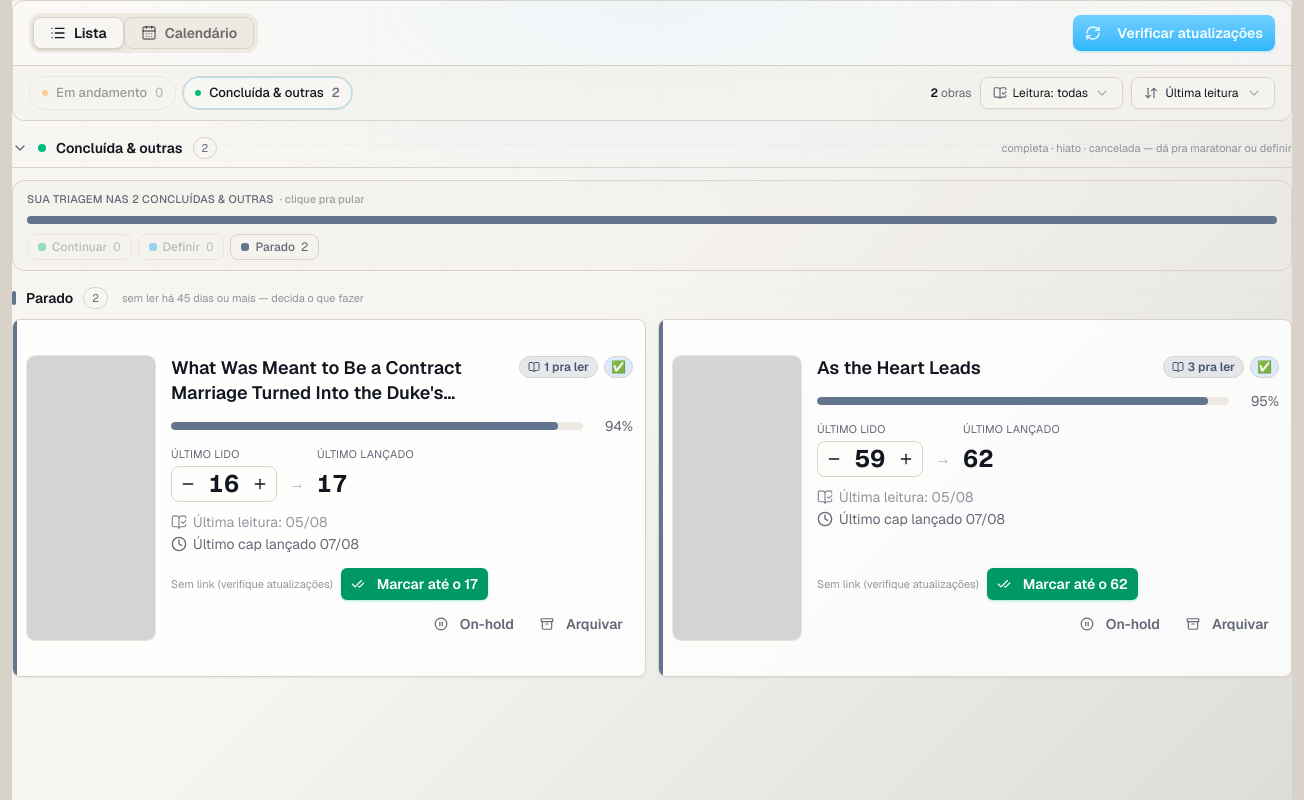
Test: /reading: obra com capítulo novo se identifica na faixa e no card › a faixa do topo traz o título INTEIRO da obra, não um trecho truncado
This screenshot has width=1304, height=800.
Click the button "Verificar atualizações".
click(1174, 33)  # box [1073, 15, 1275, 51]
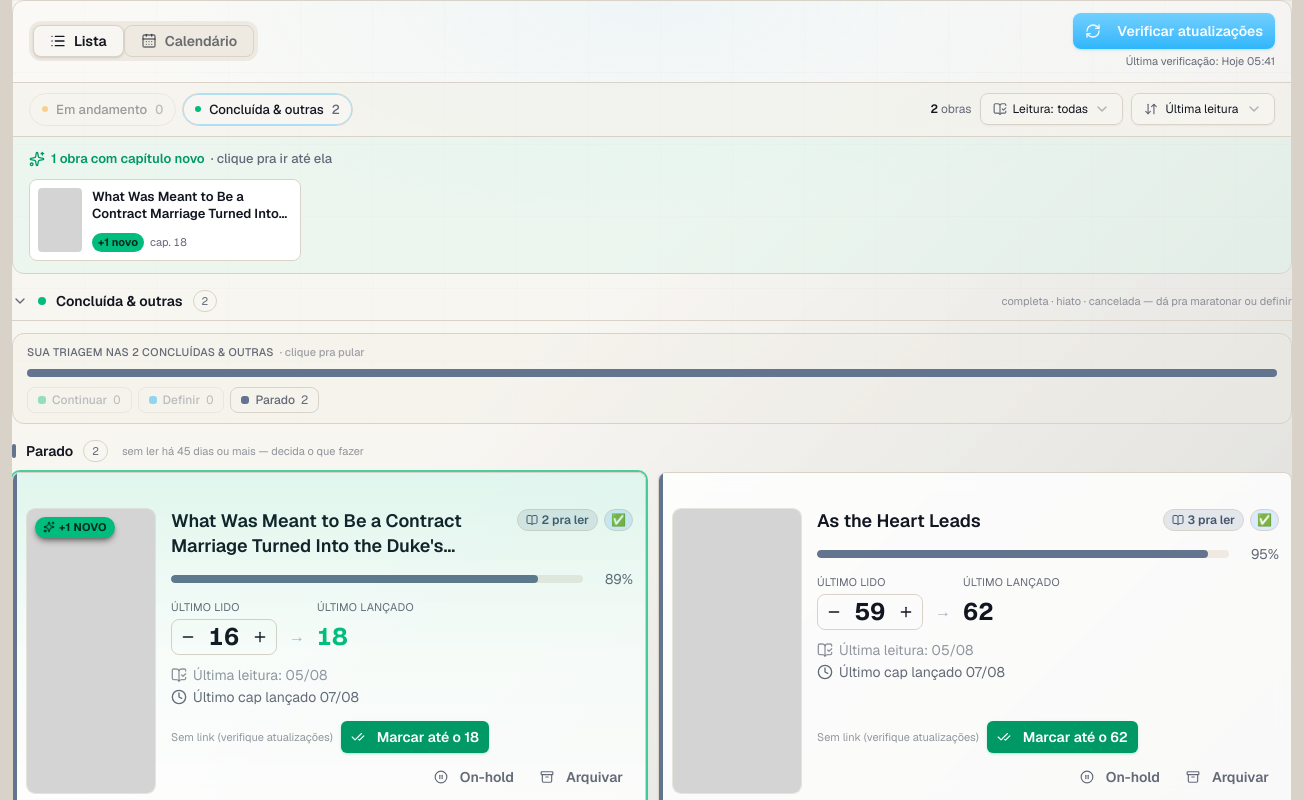
Now the button "Contract Marriage" shows "What Was Meant to Be a Contract Marriage Turned Into the Duke's Obsession", box [29, 178, 301, 260]
